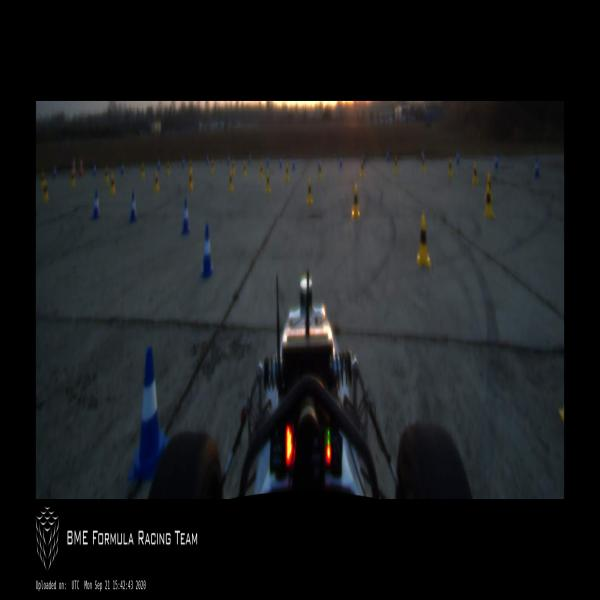blue_cone: (128, 348, 168, 479), (201, 224, 213, 276), (129, 191, 137, 223), (182, 199, 189, 234), (92, 190, 100, 219)
yellow_cone: (418, 214, 430, 262), (352, 185, 360, 217), (485, 172, 493, 202), (485, 186, 492, 216), (307, 178, 313, 205), (266, 170, 272, 193), (472, 163, 478, 185), (228, 171, 234, 192), (110, 174, 116, 193), (154, 171, 159, 192), (188, 171, 193, 191), (448, 157, 452, 177)
